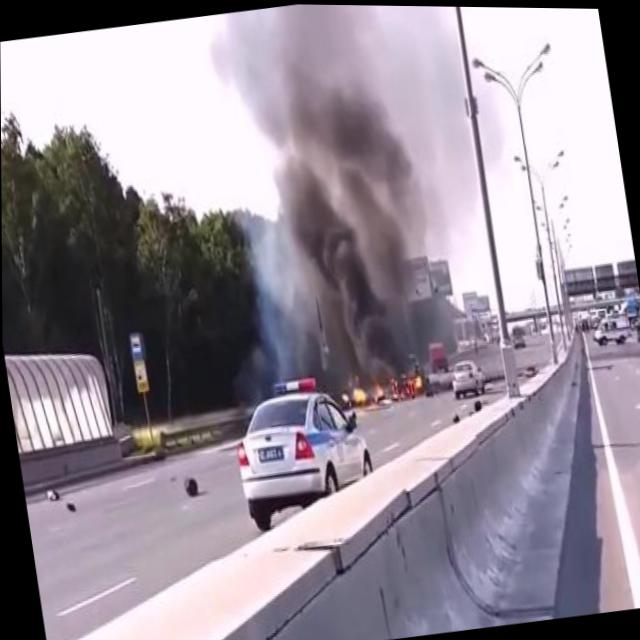fire: (340, 365, 435, 410)
